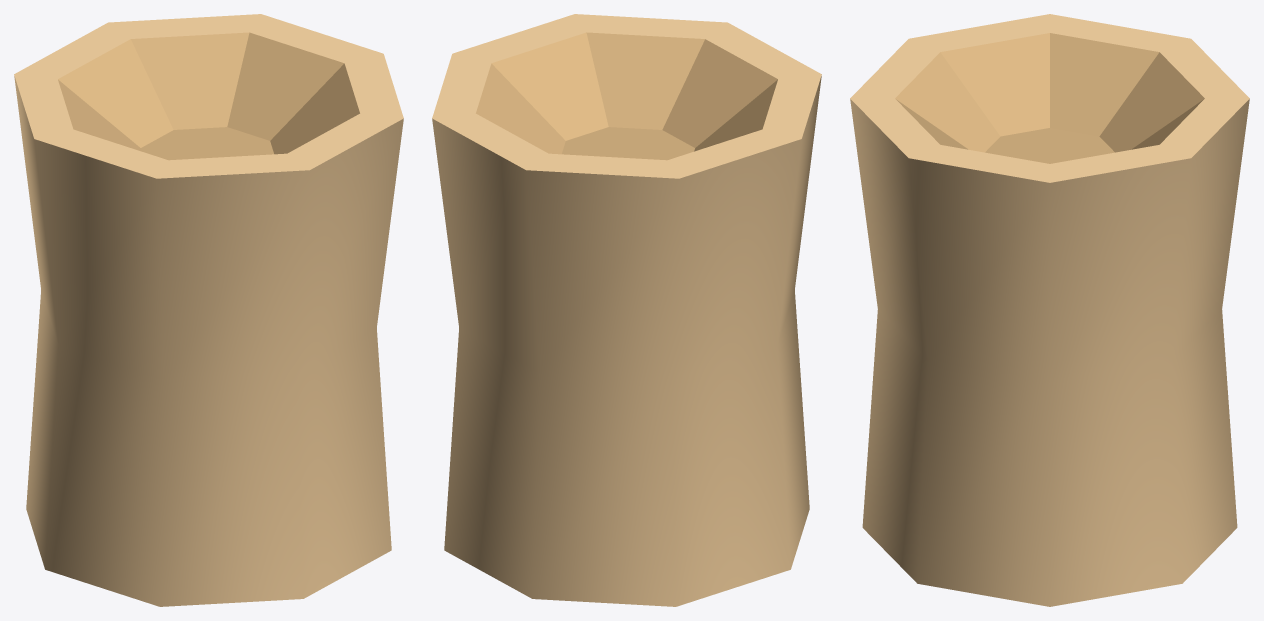
File: Candle3.FBX
The picture shows the model from 3 angles, left to right: view 1: azimuth 30°, elevation 25°; view 2: azimuth 150°, elevation 25°; view 3: azimuth 270°, elevation 25°; orthographic projection.
Visible parts, largest first — view 1: Candle3; view 2: Candle3; view 3: Candle3.
Boxes of the visible parts, <box> form: Candle3: <box>14,14,403,606</box>; Candle3: <box>432,14,821,606</box>; Candle3: <box>850,14,1249,606</box>.
Bounding box in the file's own units: 0.1417 × 0.1679 × 0.1417.
